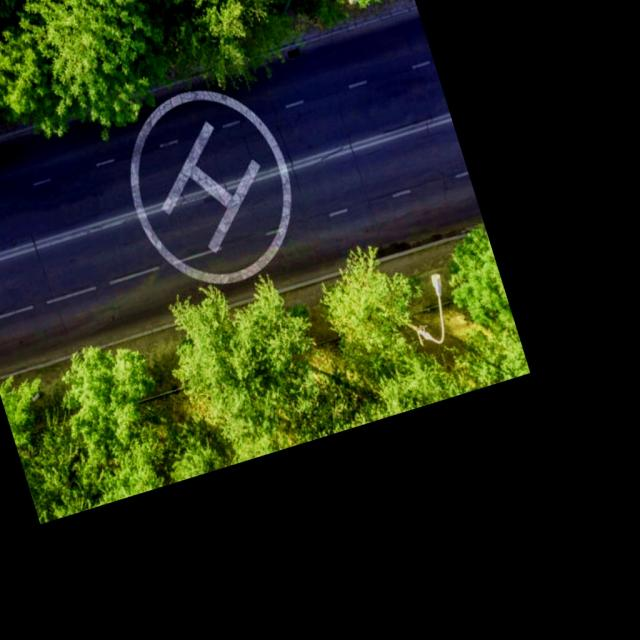helipad: (124, 83, 295, 289)
